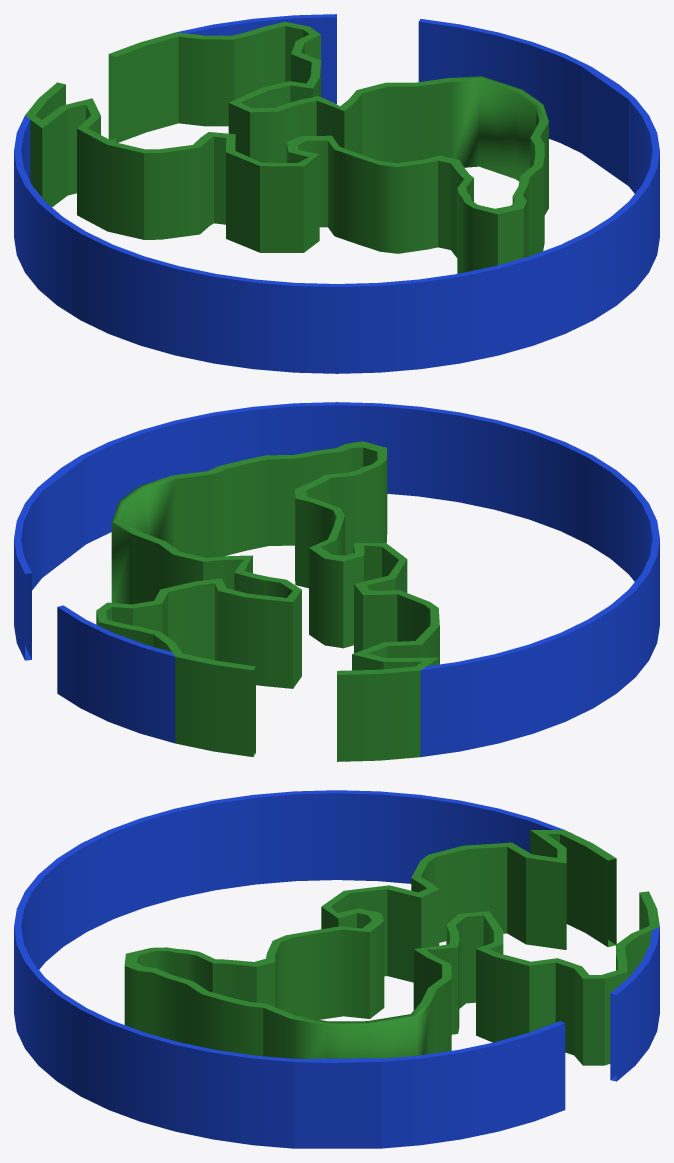
The model's file is earth_cut1.fbx.
3 views of the same model, one above another, from view 1: azimuth 30°, elevation 25°; view 2: azimuth 150°, elevation 25°; view 3: azimuth 270°, elevation 25° (orthographic).
Parts seen in each view (by area): view 1: Circle; view 2: Circle; view 3: Circle.
Boxes of the visible parts, x1,y1,x2,y2 form: Circle: (14, 14, 659, 373); Circle: (14, 402, 659, 761); Circle: (14, 790, 659, 1148).
Bounding box in the file's own units: 202 × 30 × 202.
